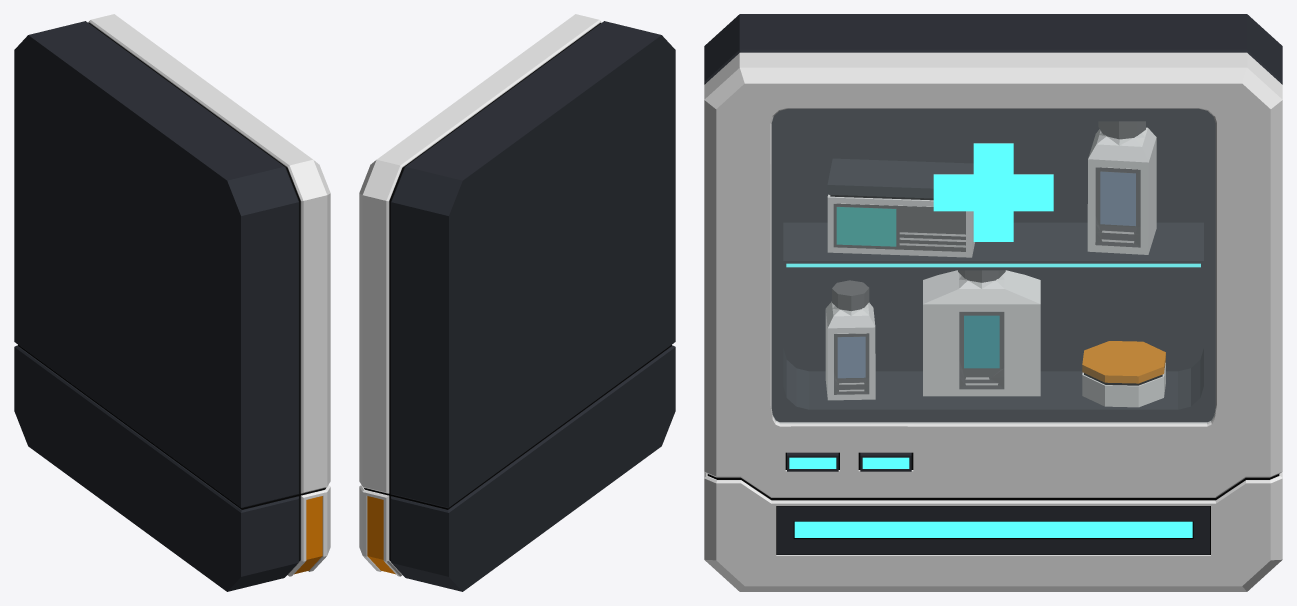
The model's file is SM_MedCabinet.fbx.
3 renders of one model, left to right at view 1: azimuth 30°, elevation 25°; view 2: azimuth 150°, elevation 25°; view 3: azimuth 270°, elevation 25°, orthographic. The views are drawn at different scales.
Visible parts, largest first — view 1: SM_MedCabinet; view 2: SM_MedCabinet; view 3: SM_MedCabinet.
Part boxes in pixels (x1,y1,x2,y2): SM_MedCabinet: [14, 14, 330, 591]; SM_MedCabinet: [359, 14, 675, 591]; SM_MedCabinet: [704, 14, 1282, 591].
Size of the model in its own units: 12.34 by 50 by 50.
